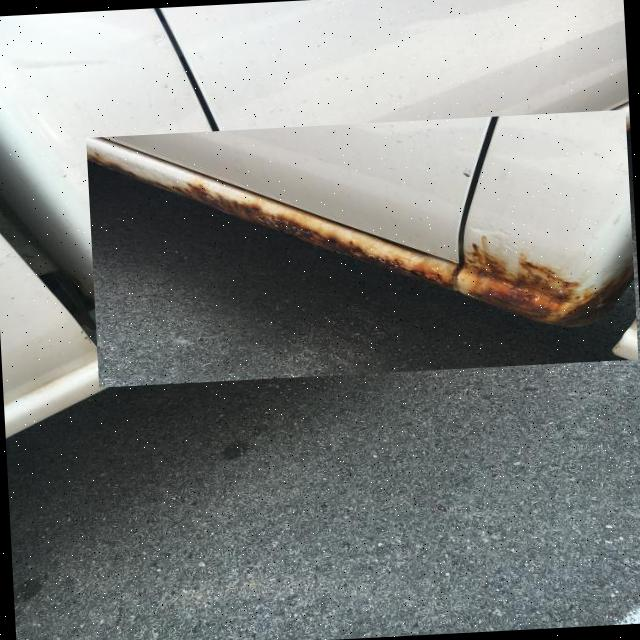Corrosion: (85, 104, 638, 354)
